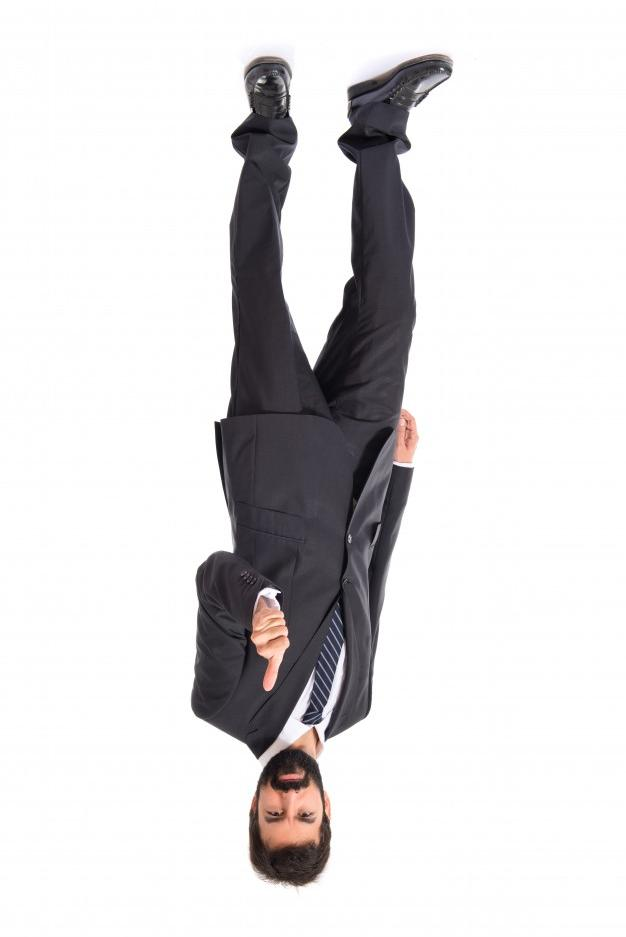thumbsdown: (250, 610, 289, 691)
